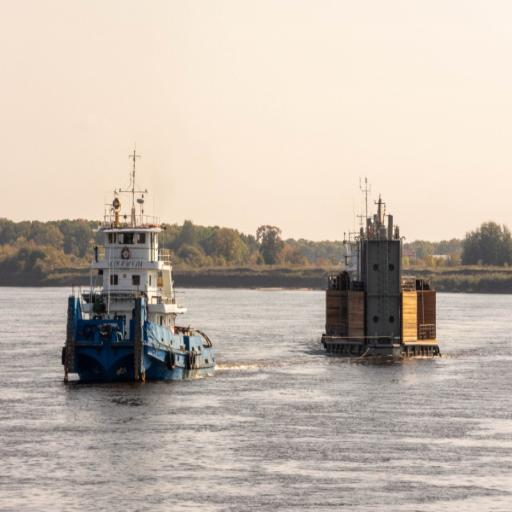tugboat: (58, 145, 221, 400)
